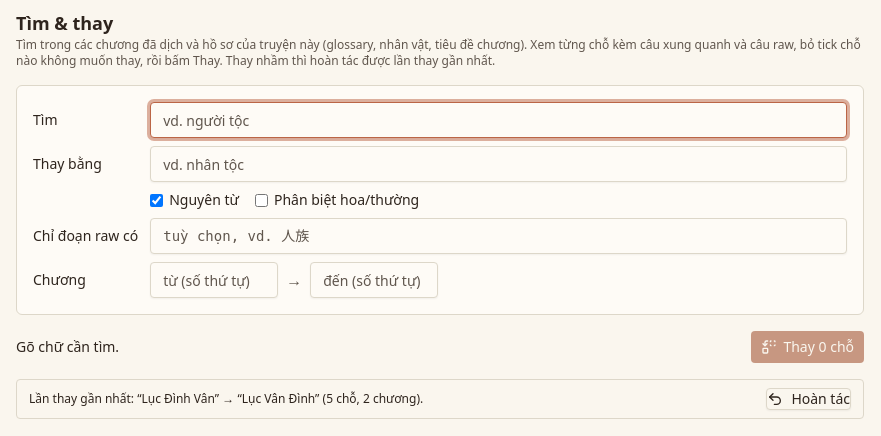
Test case: ReplacePage › hoàn tác lần thay gần nhất
This screenshot has width=881, height=436.
Expected: the text "Lần thay gần nhất: “Lục Đình Vân” → “Lục Vân Đình” (5 chỗ, 2 chương)." is shown, top-left (29, 390), bottom-right (423, 407)
Click the button "Hoàn tác": {"x": 809, "y": 399} top-left (766, 388), bottom-right (851, 410)
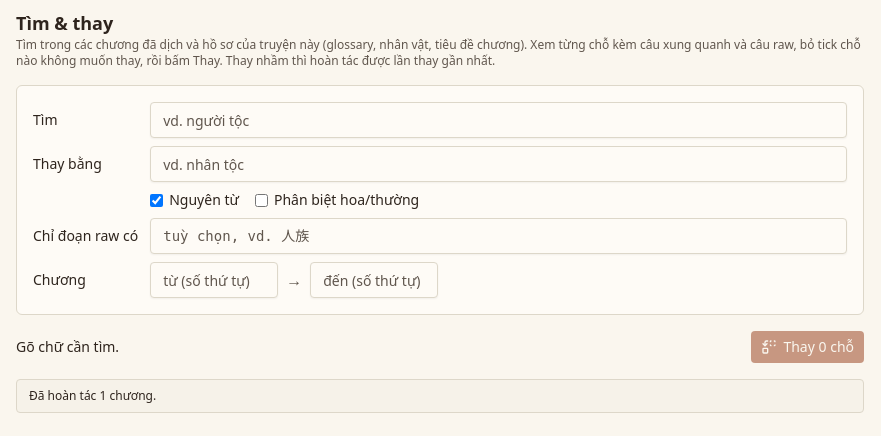
Now the text "Đã hoàn tác 1 chương." is shown, box top-left (29, 387), bottom-right (156, 404)
